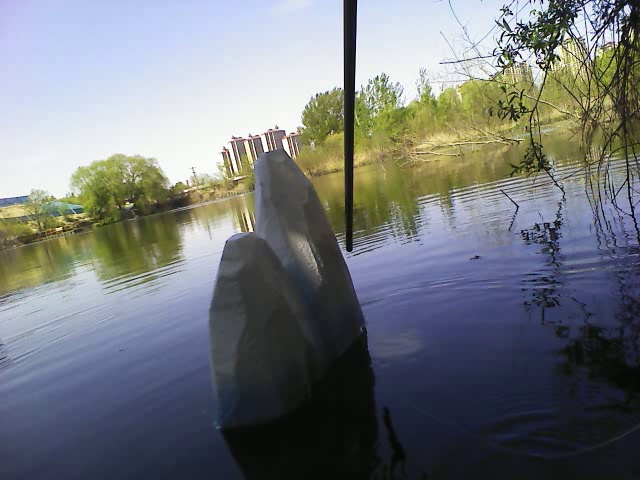iceberg: (203, 137, 364, 437)
